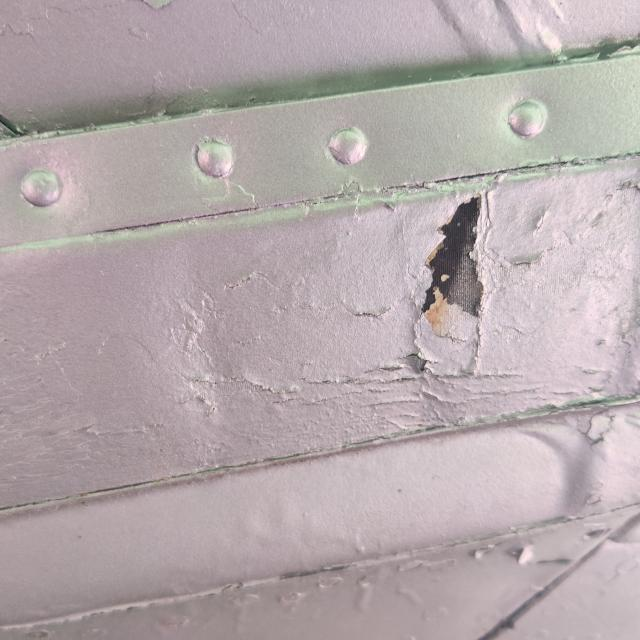crack: (407, 185, 514, 334)
